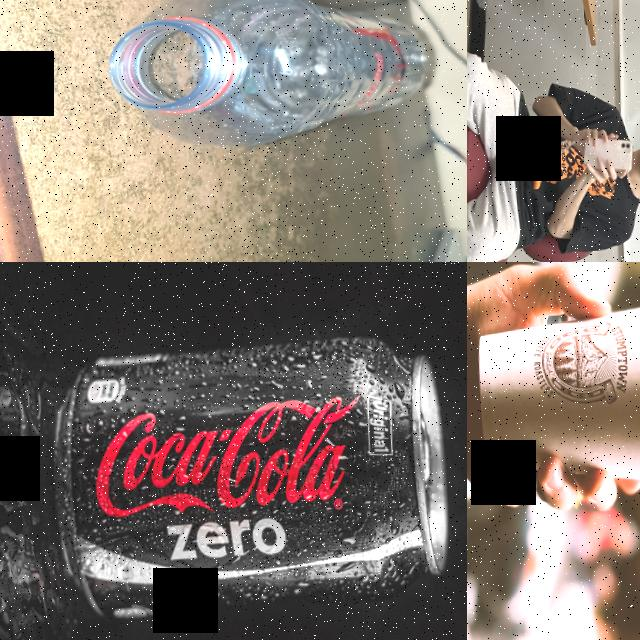bottle: (92, 0, 449, 163)
can: (44, 330, 454, 626)
cup: (468, 287, 640, 506)
